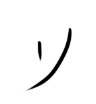so: (23, 26, 73, 94)
